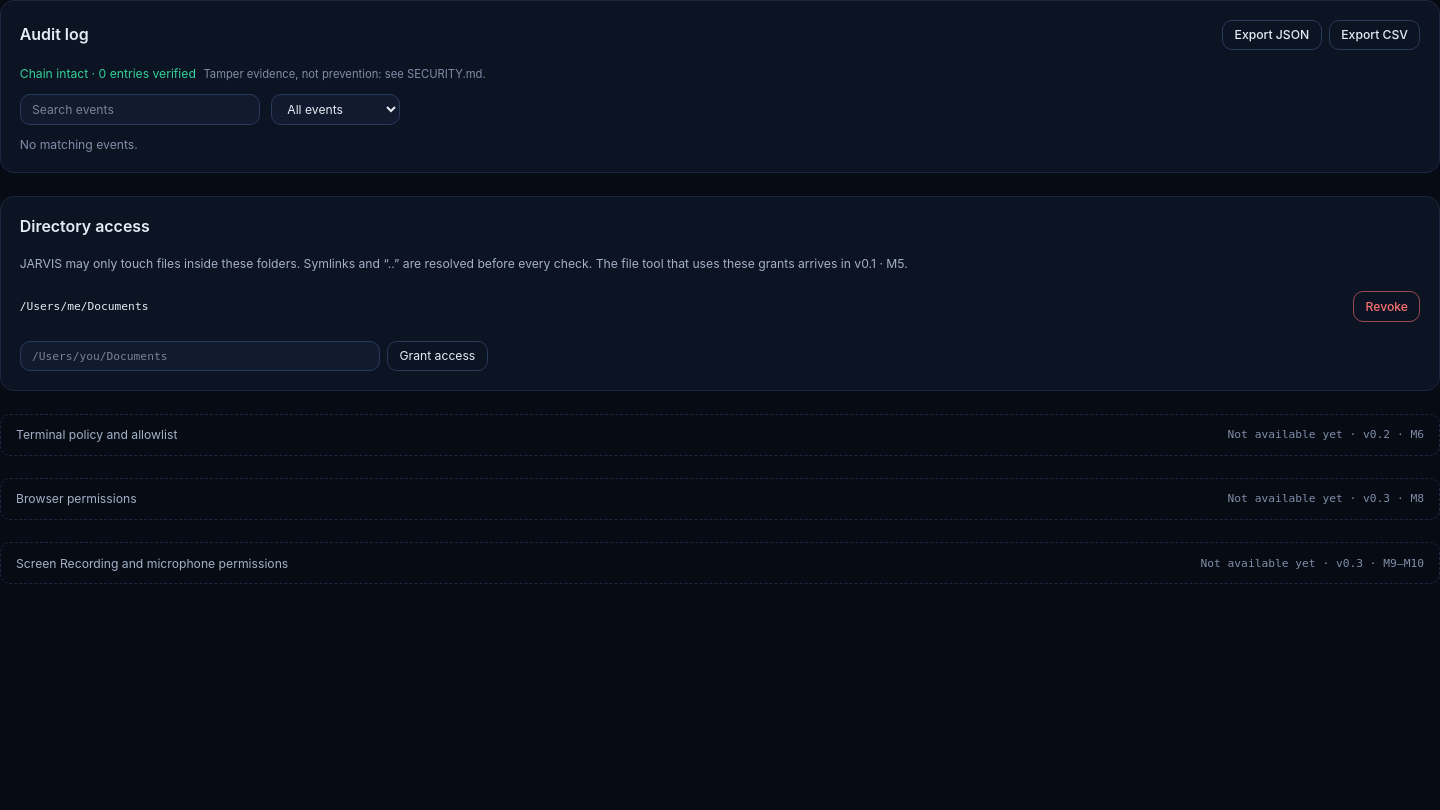
Test: Security Center › grants and revokes directory access, refusing relative paths
Expected: the text "/Users/me/Documents" is shown, [20,299,148,314]
Step 1. Type "Documents" into the field named "Folder to grant" → (200, 356), box [20,341,380,371]
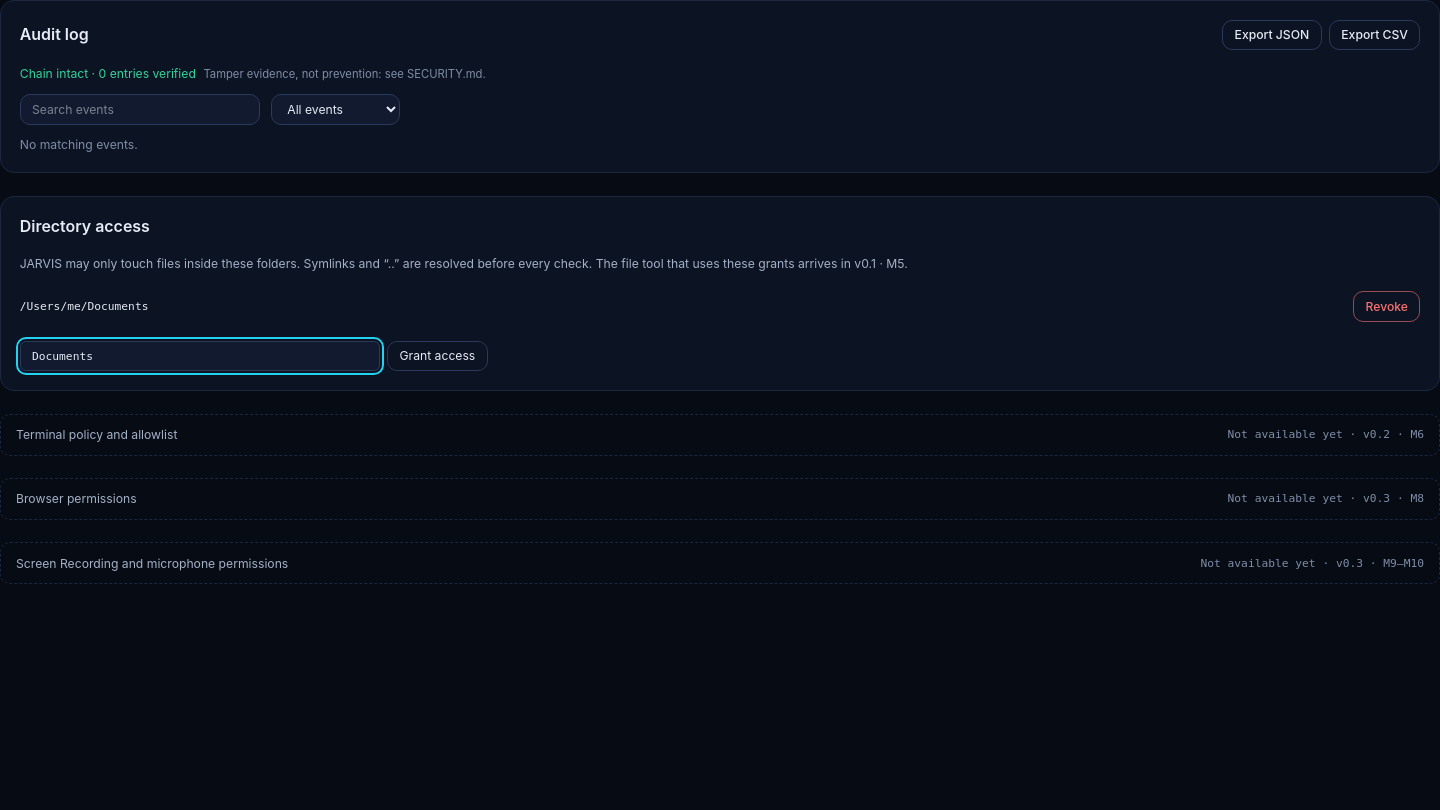
Step 2. Click the button "Grant access" → (437, 356), box [387,341,488,371]
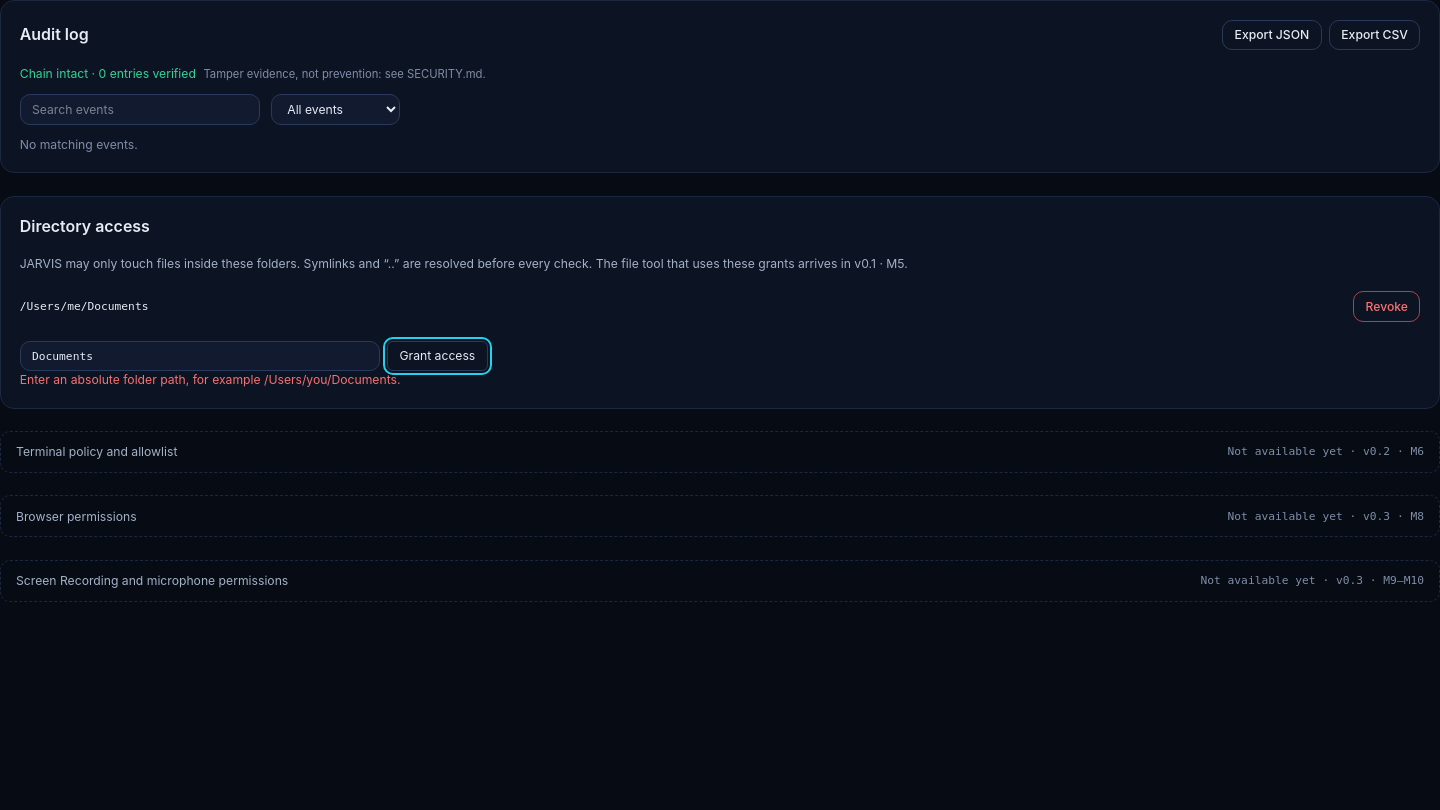
Result: the message "Enter an absolute folder path, for example /Users/you/Documents." is shown at [20,372,400,387]
Step 3. Replace the text in the field named "Folder to grant" with "/Users/me/Projects" → (200, 356), box [20,341,380,371]
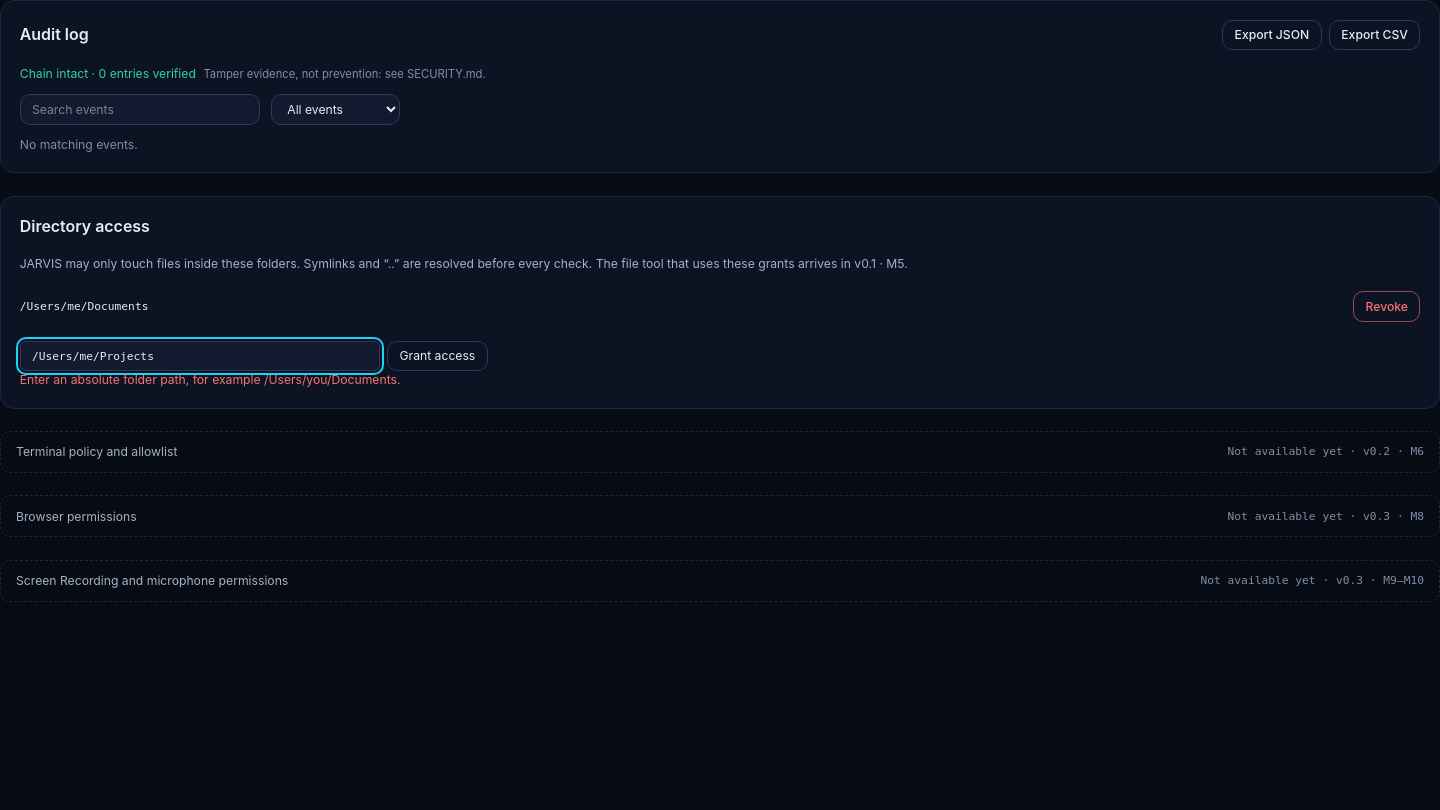
Step 4. Click the button "Grant access" → (437, 356), box [387,341,488,371]
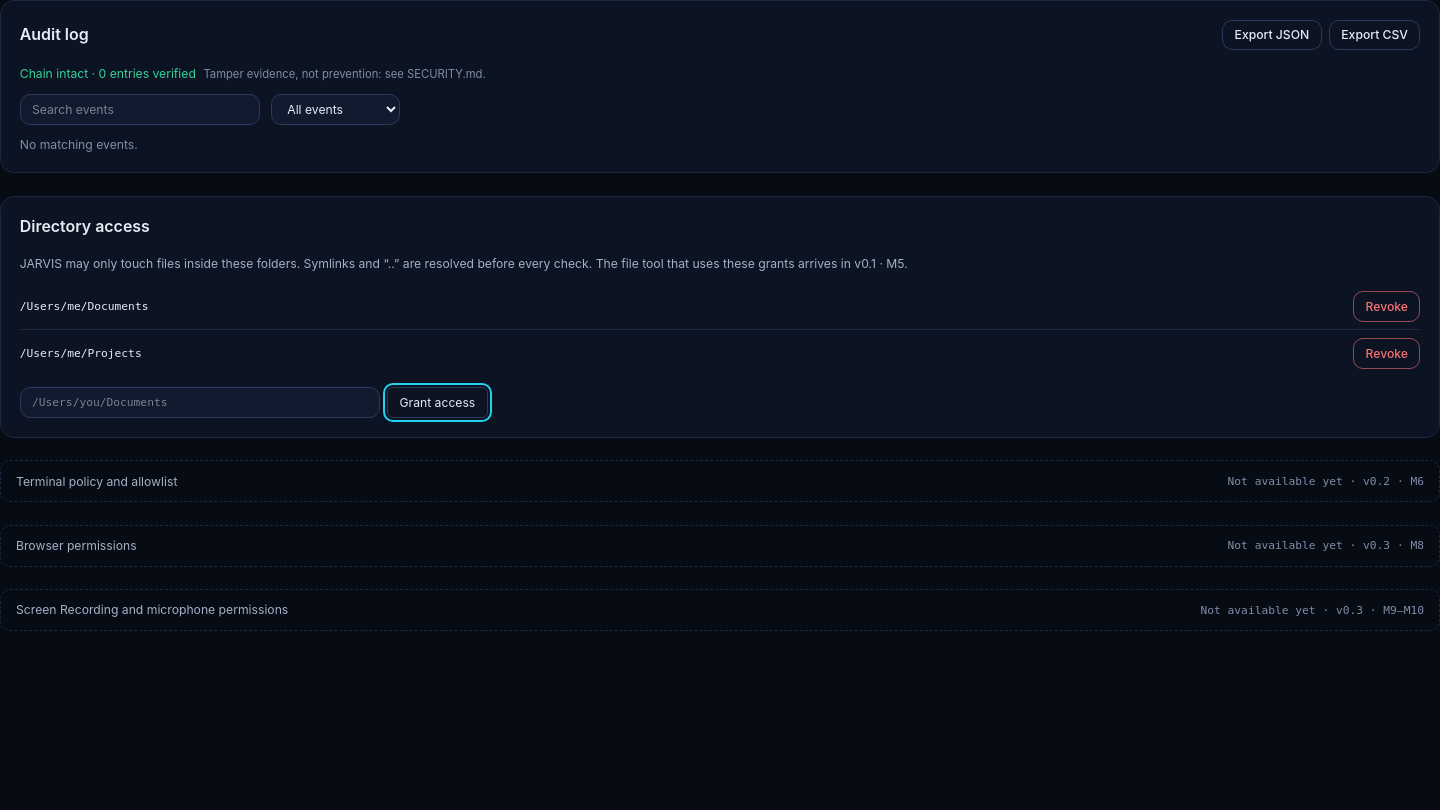
Result: the text "/Users/me/Projects" is shown at [20,346,142,361]
Step 5. Click the button "Revoke" in the row of "/Users/me/Documents" → (1387, 307), box [1353,291,1420,322]
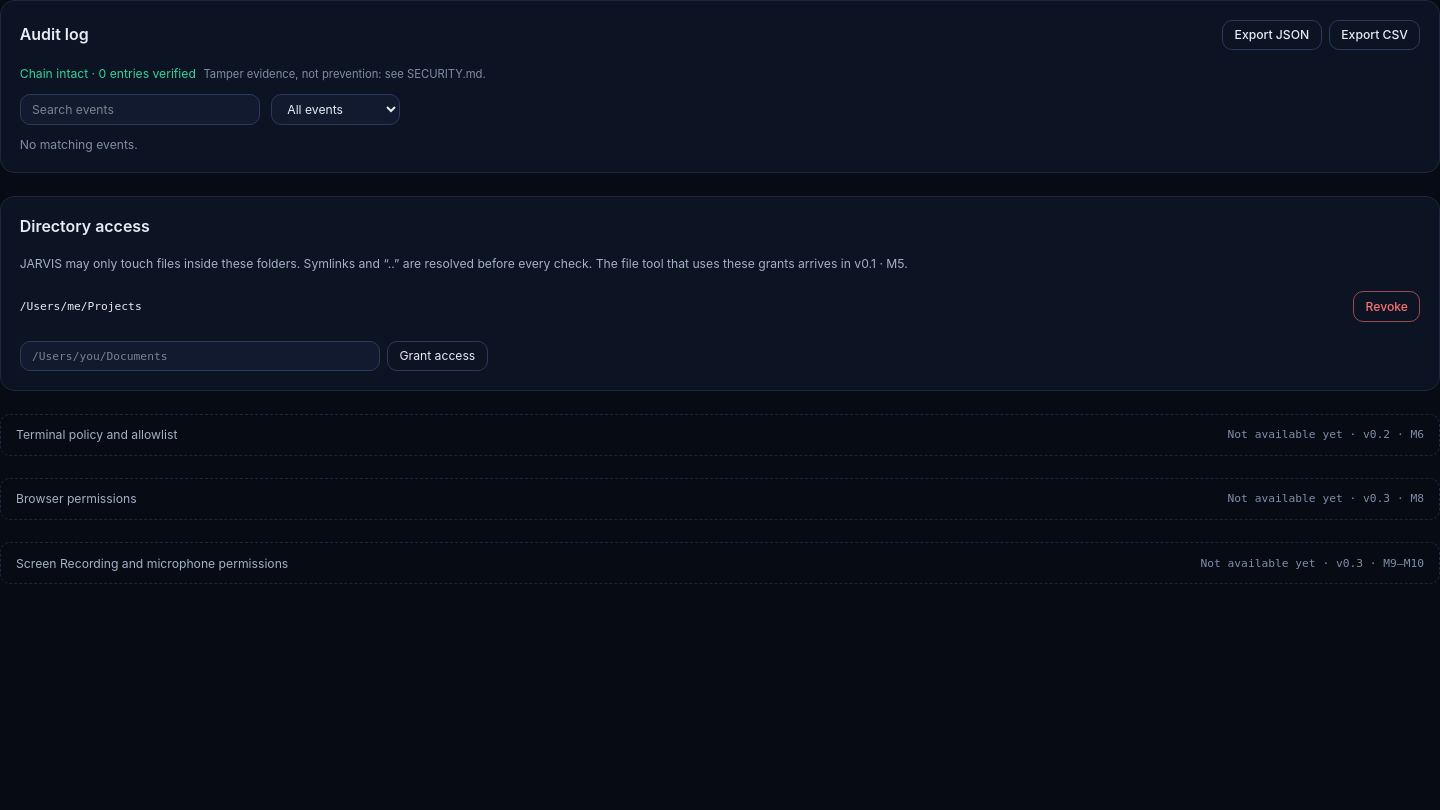
Result: the text "/Users/me/Documents" is gone
